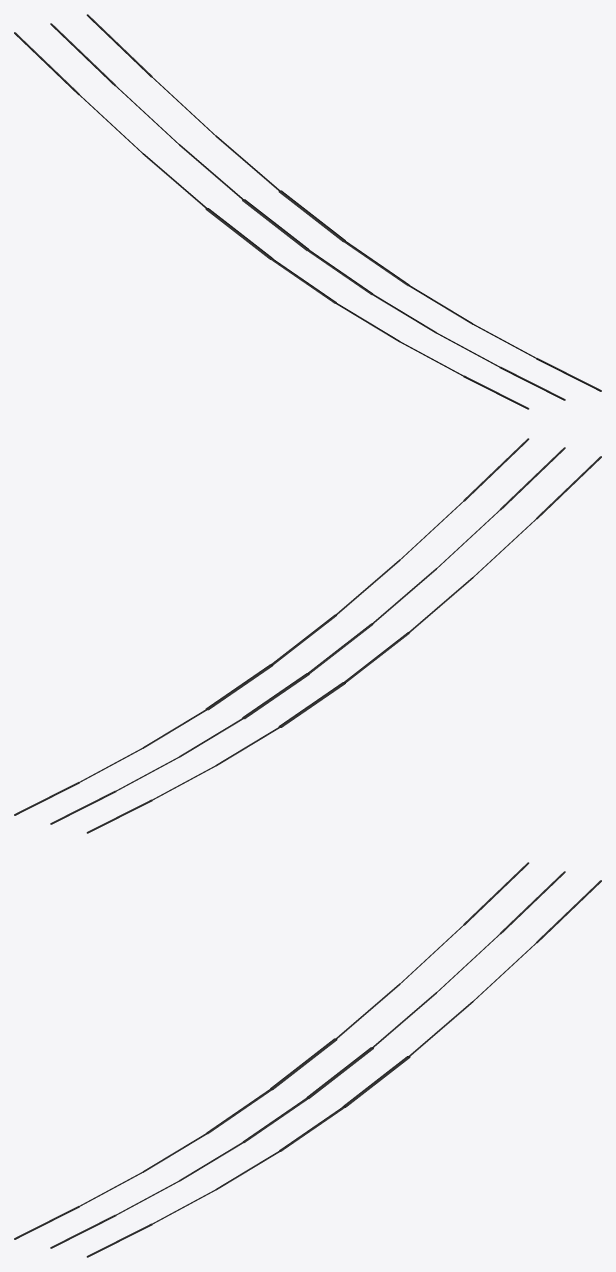
Rendered from town_powerline.glb.
3 views of the same model, one above another, from view 1: azimuth 30°, elevation 25°; view 2: azimuth 150°, elevation 25°; view 3: azimuth 330°, elevation 25° (orthographic).
Visible parts, largest first — view 1: wires; view 2: wires; view 3: wires.
Part boxes in pixels (bbox=[...]): wires: bbox=[14, 14, 601, 409]; wires: bbox=[14, 438, 601, 833]; wires: bbox=[14, 862, 601, 1257].
Bounding box in the file's own units: 1.87 × 0.9314 × 22.02.
1 material, 1 textured.
